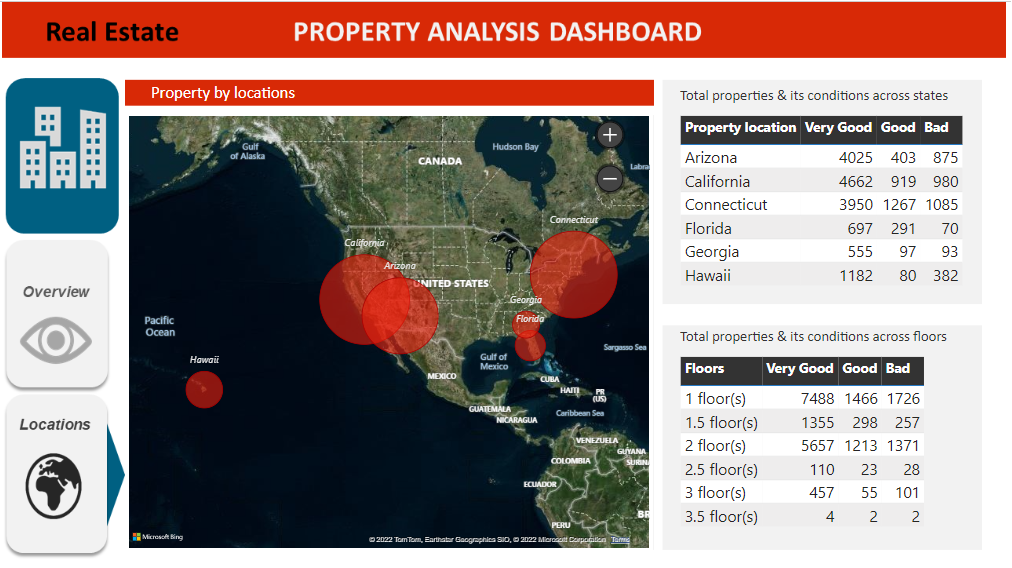

The dashboard page shown, as its layout file describes it:
{"tool":"powerbi","page":{"name":"Locations","canvas":[1280,720],"ordinal":1},"visuals":[{"type":"textbox","box":[184.3,96.4,385.5,43.9],"z":0},{"type":"map","fields":{"Size":["Measures Table.Total properties"],"Category":["Dim_Location.Property location"]},"box":[157.3,140.3,673.2,561.3],"z":1000},{"type":"textbox","box":[858.9,102,385.5,43.9],"z":2000},{"type":"tableEx","fields":{"Values":["Dim_Location.Property location","Measures Table.Very Good","Measures Table.Good","Measures Table.Bad"]},"box":[858.9,140.3,385.5,243.8],"z":3000},{"type":"textbox","box":[859,409.7,385.5,43.9],"z":4000},{"type":"tableEx","fields":{"Values":["Dim_Floors.Floors","Measures Table.Very Good","Measures Table.Good","Measures Table.Bad"]},"box":[858.9,447.9,385.5,243.8],"z":5000},{"type":"shape","box":[22.7,395.4,95,69.4],"z":5001}]}

Visuals, with their boxes in screenshot pixels (x1, y1, x2, y2), scaled from the page's 1280x720 canvas onto the 1012x568 screenshot:
textbox: pyautogui.locateOnScreen(146, 76, 450, 111)
map - Measures Table.Total properties x Dim_Location.Property location: pyautogui.locateOnScreen(124, 111, 657, 553)
textbox: pyautogui.locateOnScreen(679, 80, 984, 115)
tableEx - Dim_Location.Property location x Measures Table.Very Good: pyautogui.locateOnScreen(679, 111, 984, 303)
textbox: pyautogui.locateOnScreen(679, 323, 984, 358)
tableEx - Dim_Floors.Floors x Measures Table.Very Good: pyautogui.locateOnScreen(679, 353, 984, 546)
shape: pyautogui.locateOnScreen(18, 312, 93, 367)
